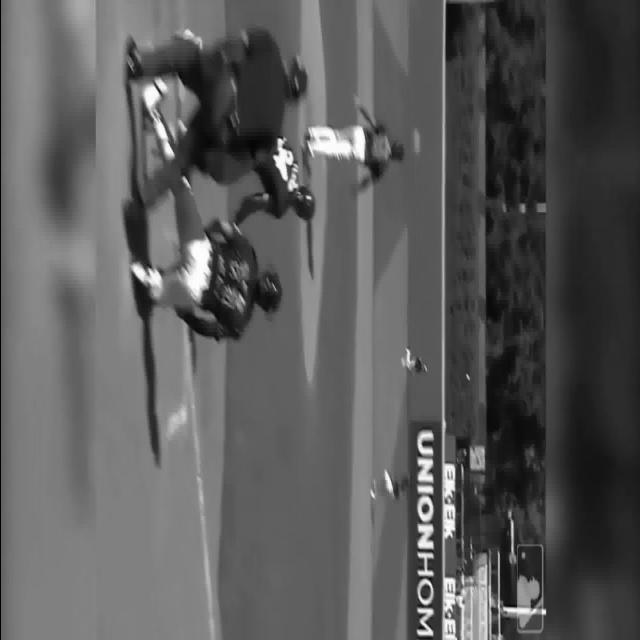baseball: (465, 372, 469, 382)
shoe: (130, 259, 162, 301), (141, 76, 167, 124), (124, 36, 142, 80), (130, 260, 152, 288), (132, 168, 146, 206), (152, 76, 168, 98), (370, 487, 376, 499)
